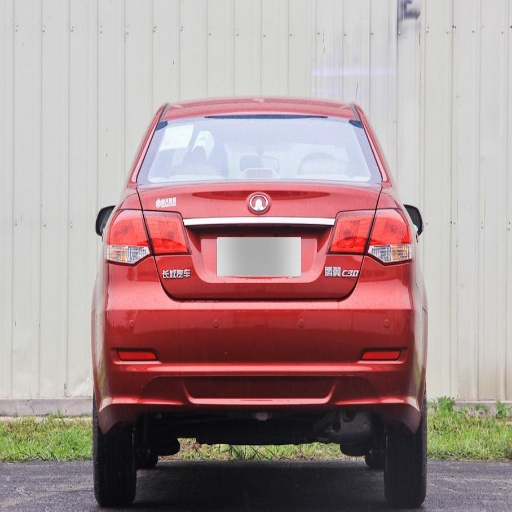back_bumper: (97, 255, 426, 424)
tailgate: (136, 177, 380, 300)
trunk: (144, 180, 242, 236)
